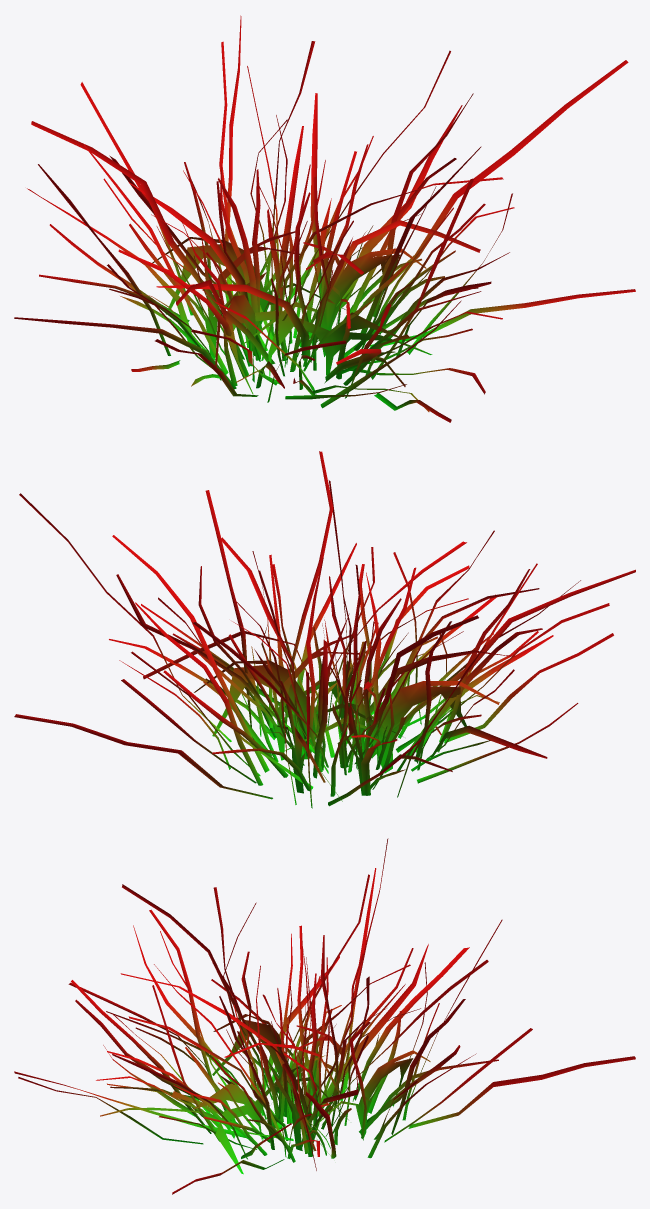
The model's file is Tundra Grass_LOD1_Var23_wk2oaeyqx.fbx.
The picture shows the model from 3 angles, top to bottom: view 1: azimuth 30°, elevation 25°; view 2: azimuth 150°, elevation 25°; view 3: azimuth 270°, elevation 25°; orthographic projection. The views are drawn at different scales.
Visible parts, largest first — view 1: _tbmm_Var23_LOD1; view 2: _tbmm_Var23_LOD1; view 3: _tbmm_Var23_LOD1.
Part boxes in pixels (x1,y1,x2,y2): _tbmm_Var23_LOD1: [14, 15, 635, 422]; _tbmm_Var23_LOD1: [14, 451, 635, 808]; _tbmm_Var23_LOD1: [14, 838, 635, 1194].
Size of the model in its own units: 41.97 by 17.23 by 45.19.
